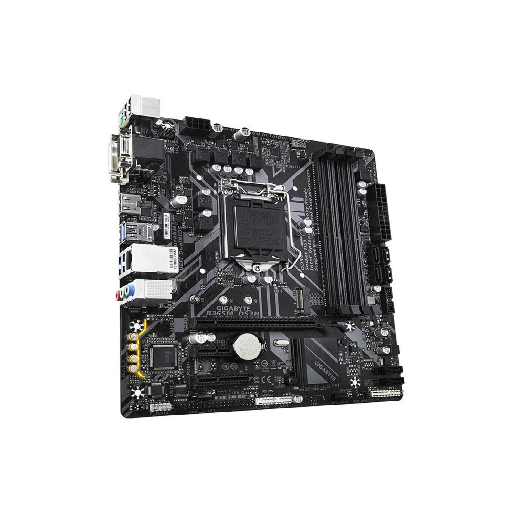CPU: (220, 190, 291, 275)
GPU: (182, 312, 336, 337)
MOTHERBOARD: (111, 111, 408, 415)
RAM: (309, 144, 384, 323)
SSD: (292, 286, 314, 315)
